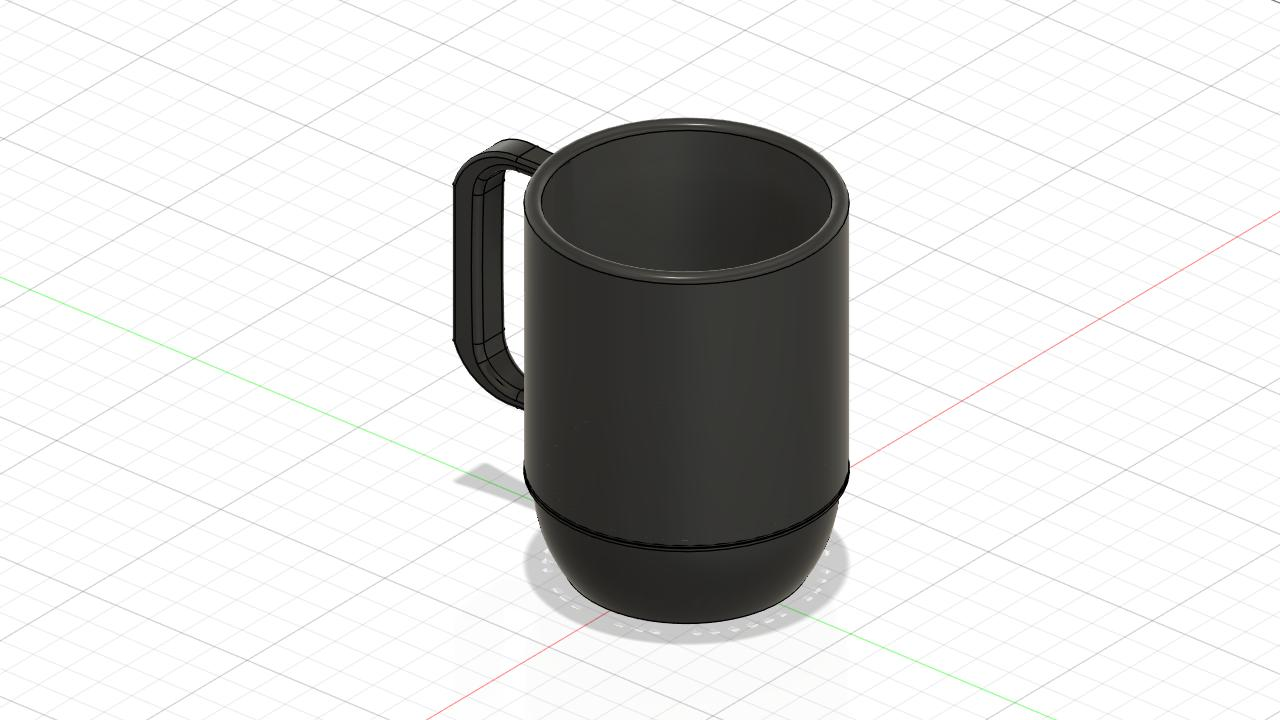mug-real100-3d100: (455, 119, 849, 622)
